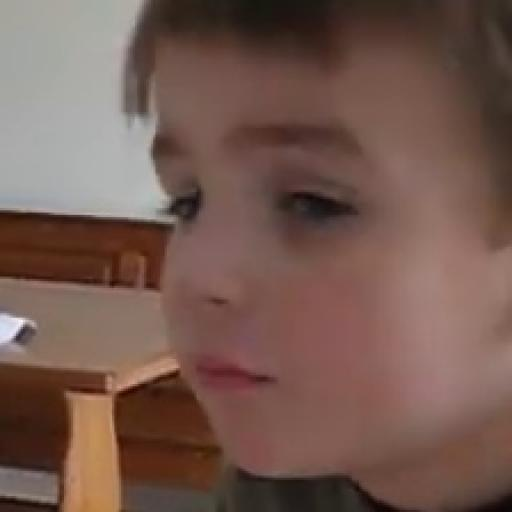Autism: (129, 0, 512, 489)
